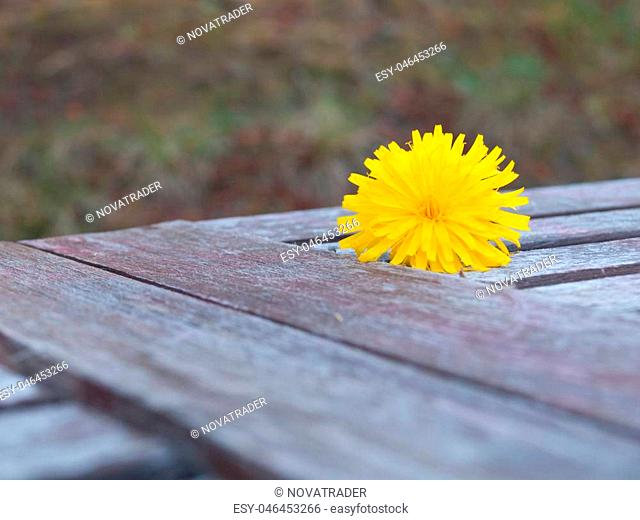dandelion: (335, 143, 517, 275)
